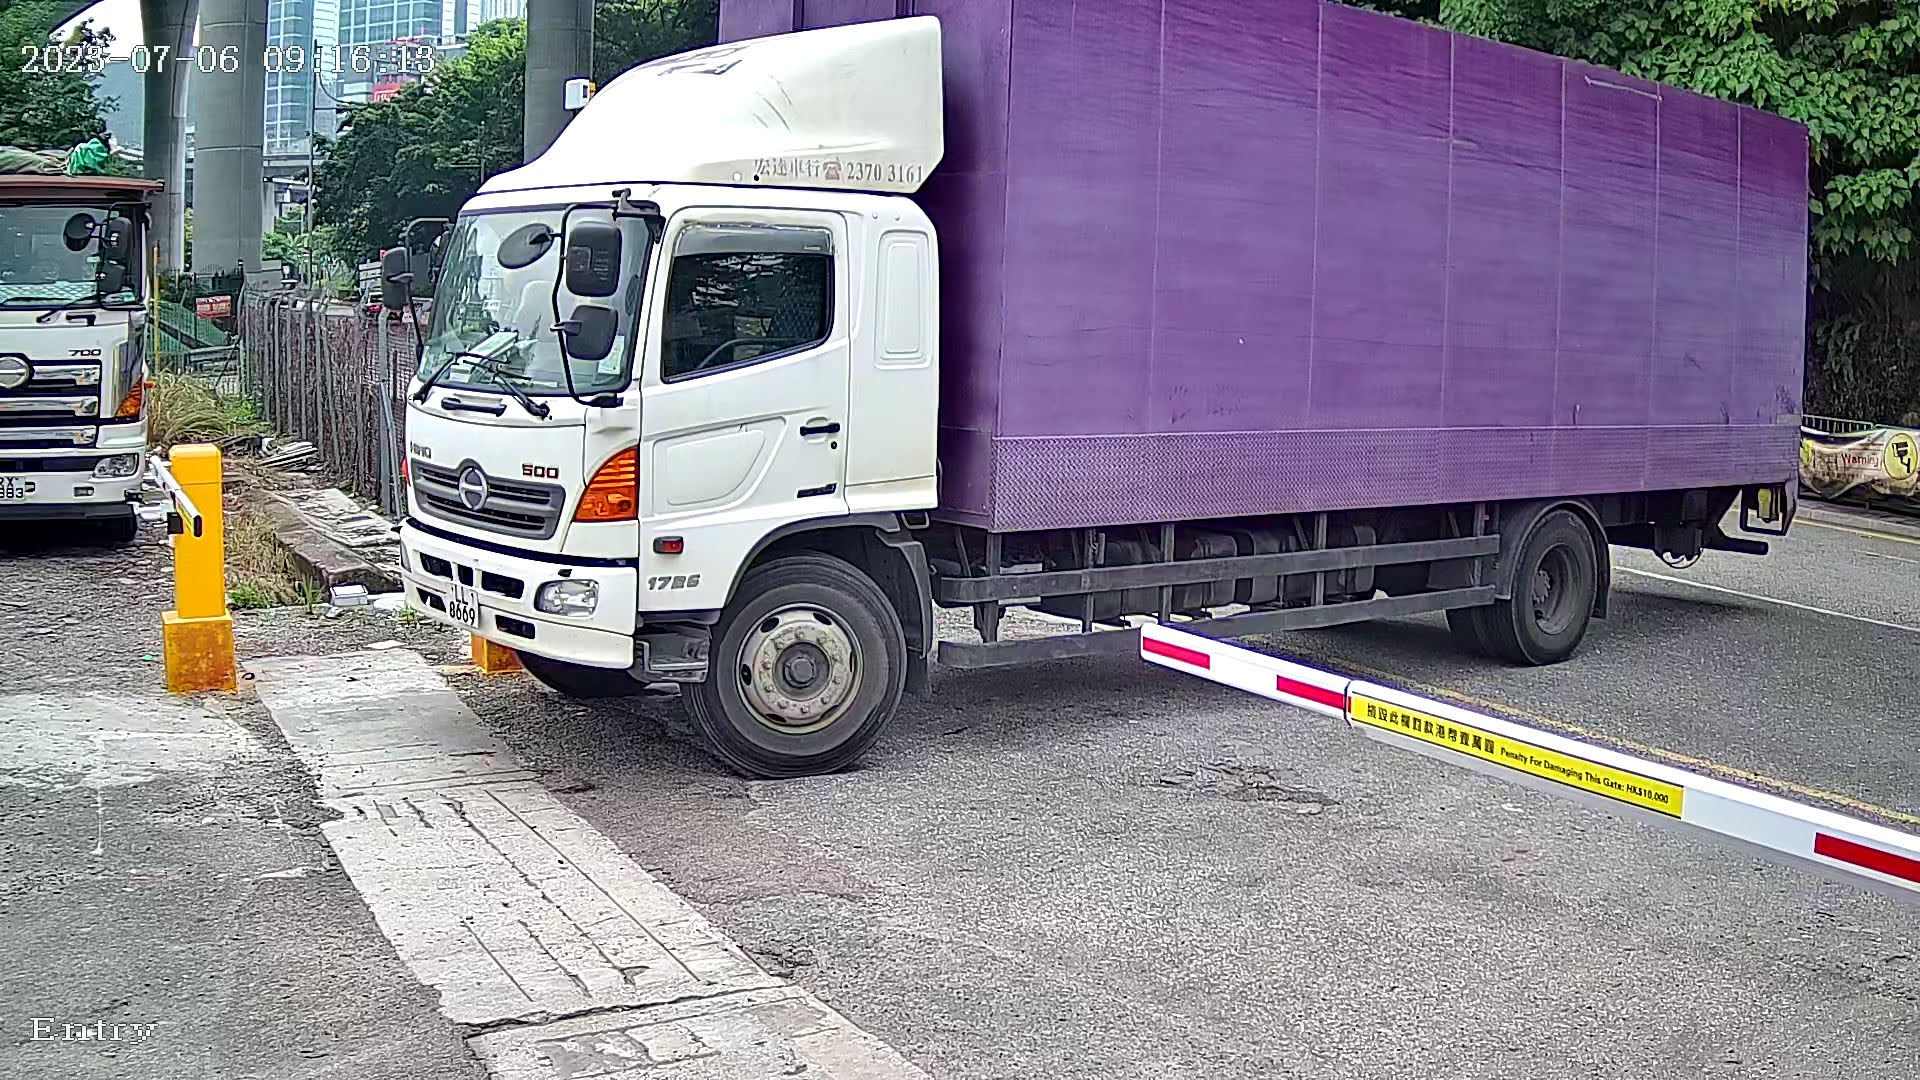truck: (363, 1, 1846, 771)
